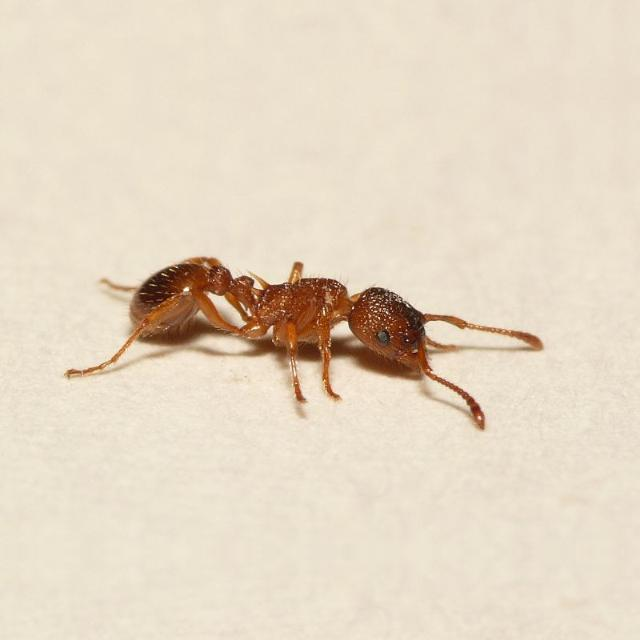Myrmica: (115, 226, 472, 394)
